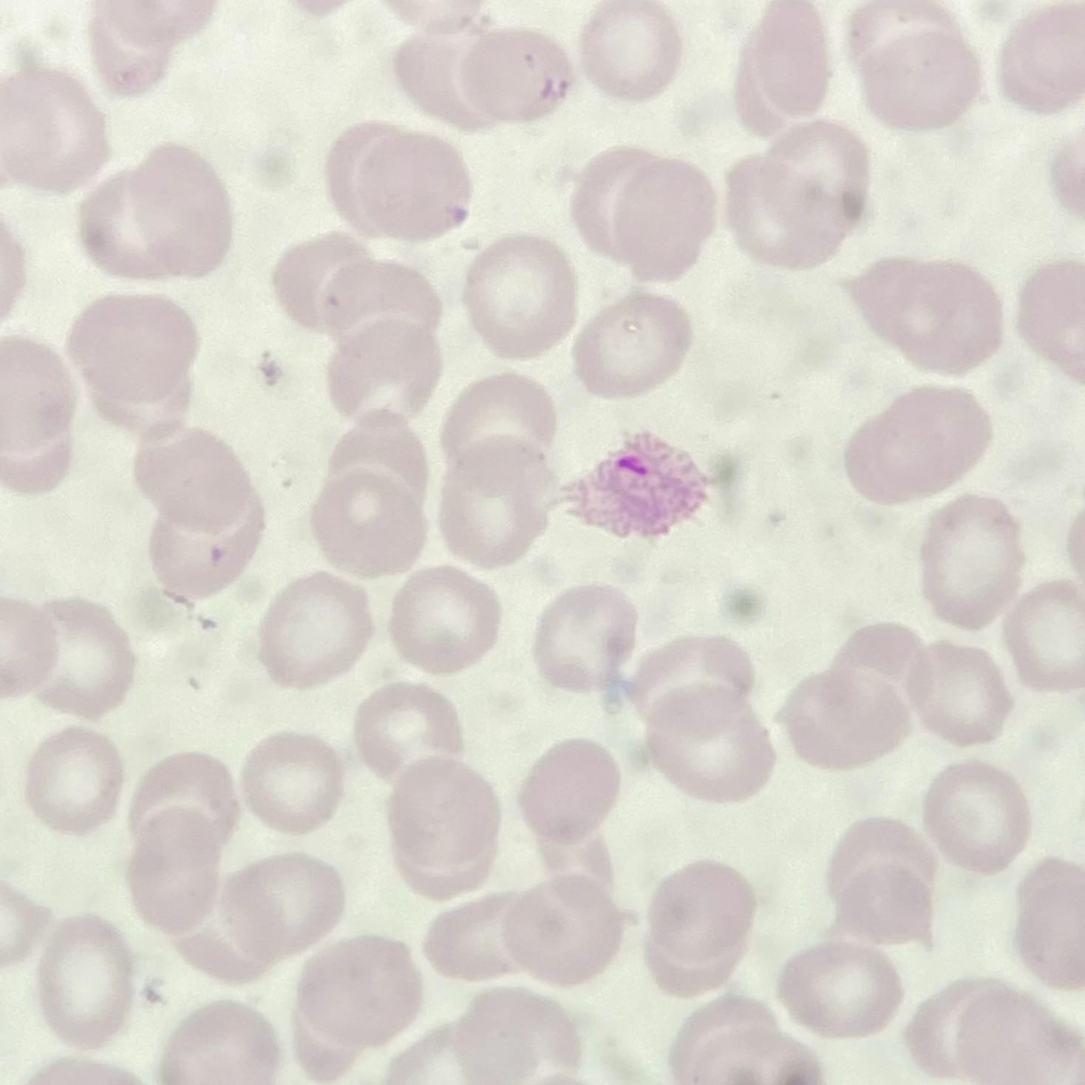Infected: (556, 433, 713, 543)
Uninfected: (649, 682, 777, 805), (216, 854, 348, 970), (438, 438, 555, 567), (916, 492, 1025, 629), (724, 152, 848, 272), (887, 257, 1006, 382), (70, 294, 199, 407), (78, 161, 197, 283), (467, 233, 577, 362), (253, 573, 375, 688), (127, 143, 231, 277), (294, 937, 421, 1046), (780, 669, 913, 771), (501, 871, 620, 985), (615, 156, 718, 285), (874, 385, 996, 493), (312, 464, 429, 576), (22, 597, 131, 716), (327, 255, 441, 368), (150, 488, 265, 600), (362, 133, 475, 245), (573, 294, 693, 399), (922, 760, 1028, 876), (131, 806, 227, 934), (440, 372, 557, 477), (386, 564, 500, 671), (135, 424, 249, 530), (567, 139, 669, 257), (35, 917, 128, 1046), (325, 313, 435, 422), (909, 972, 1022, 1078), (384, 758, 500, 861), (861, 34, 984, 130), (763, 120, 873, 226), (355, 677, 465, 783), (778, 945, 903, 1037), (423, 878, 533, 982), (460, 24, 576, 122), (652, 861, 759, 965), (830, 817, 934, 922), (575, 0, 684, 100), (637, 632, 755, 722), (24, 728, 123, 835), (519, 741, 622, 843), (915, 645, 1018, 746), (533, 582, 630, 688), (163, 1000, 282, 1085), (246, 730, 341, 833), (327, 412, 428, 502), (1007, 581, 1085, 693)
